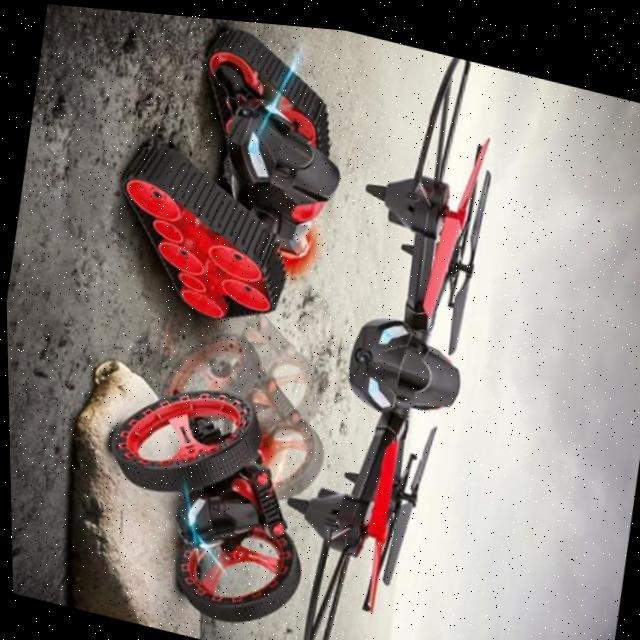drones: (238, 17, 550, 640)
